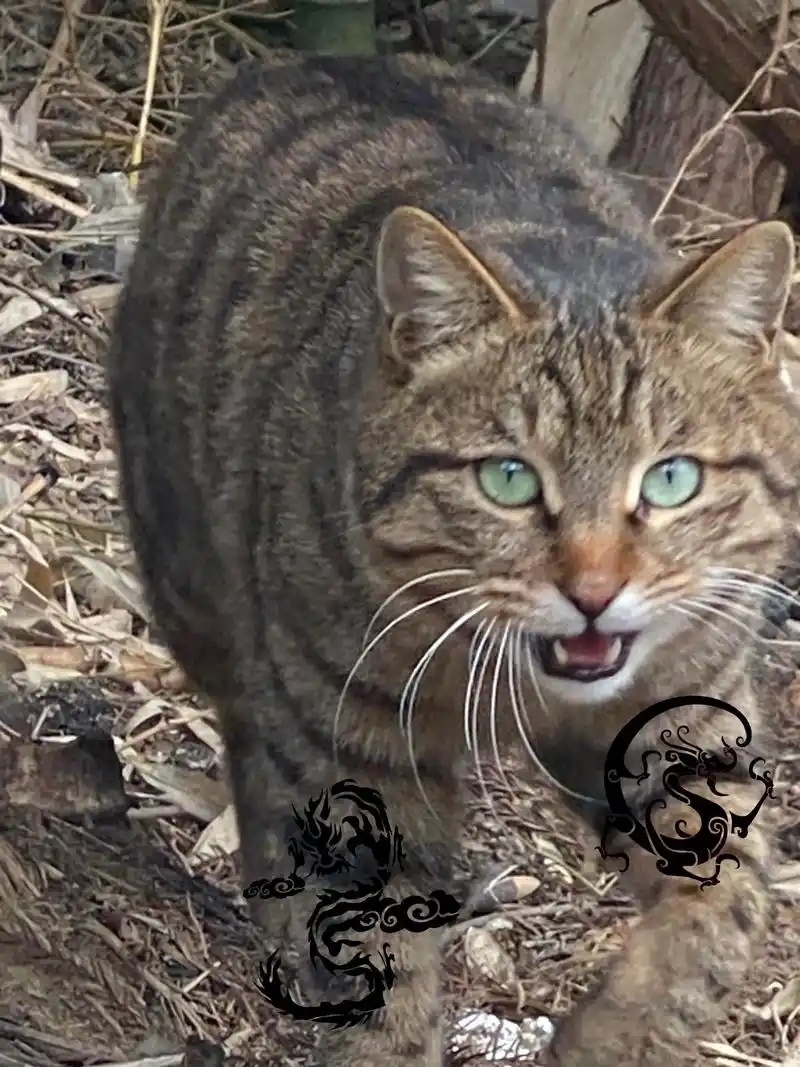狸花猫: (365, 208, 795, 669)
